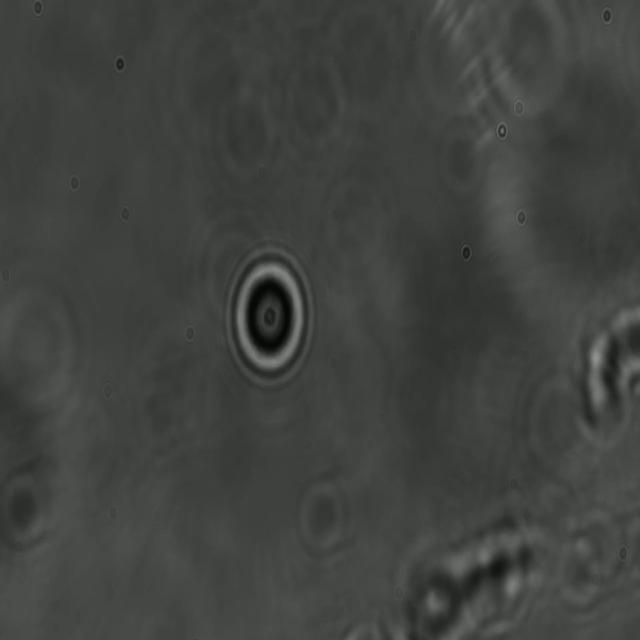LCELL: (222, 242, 318, 396)
